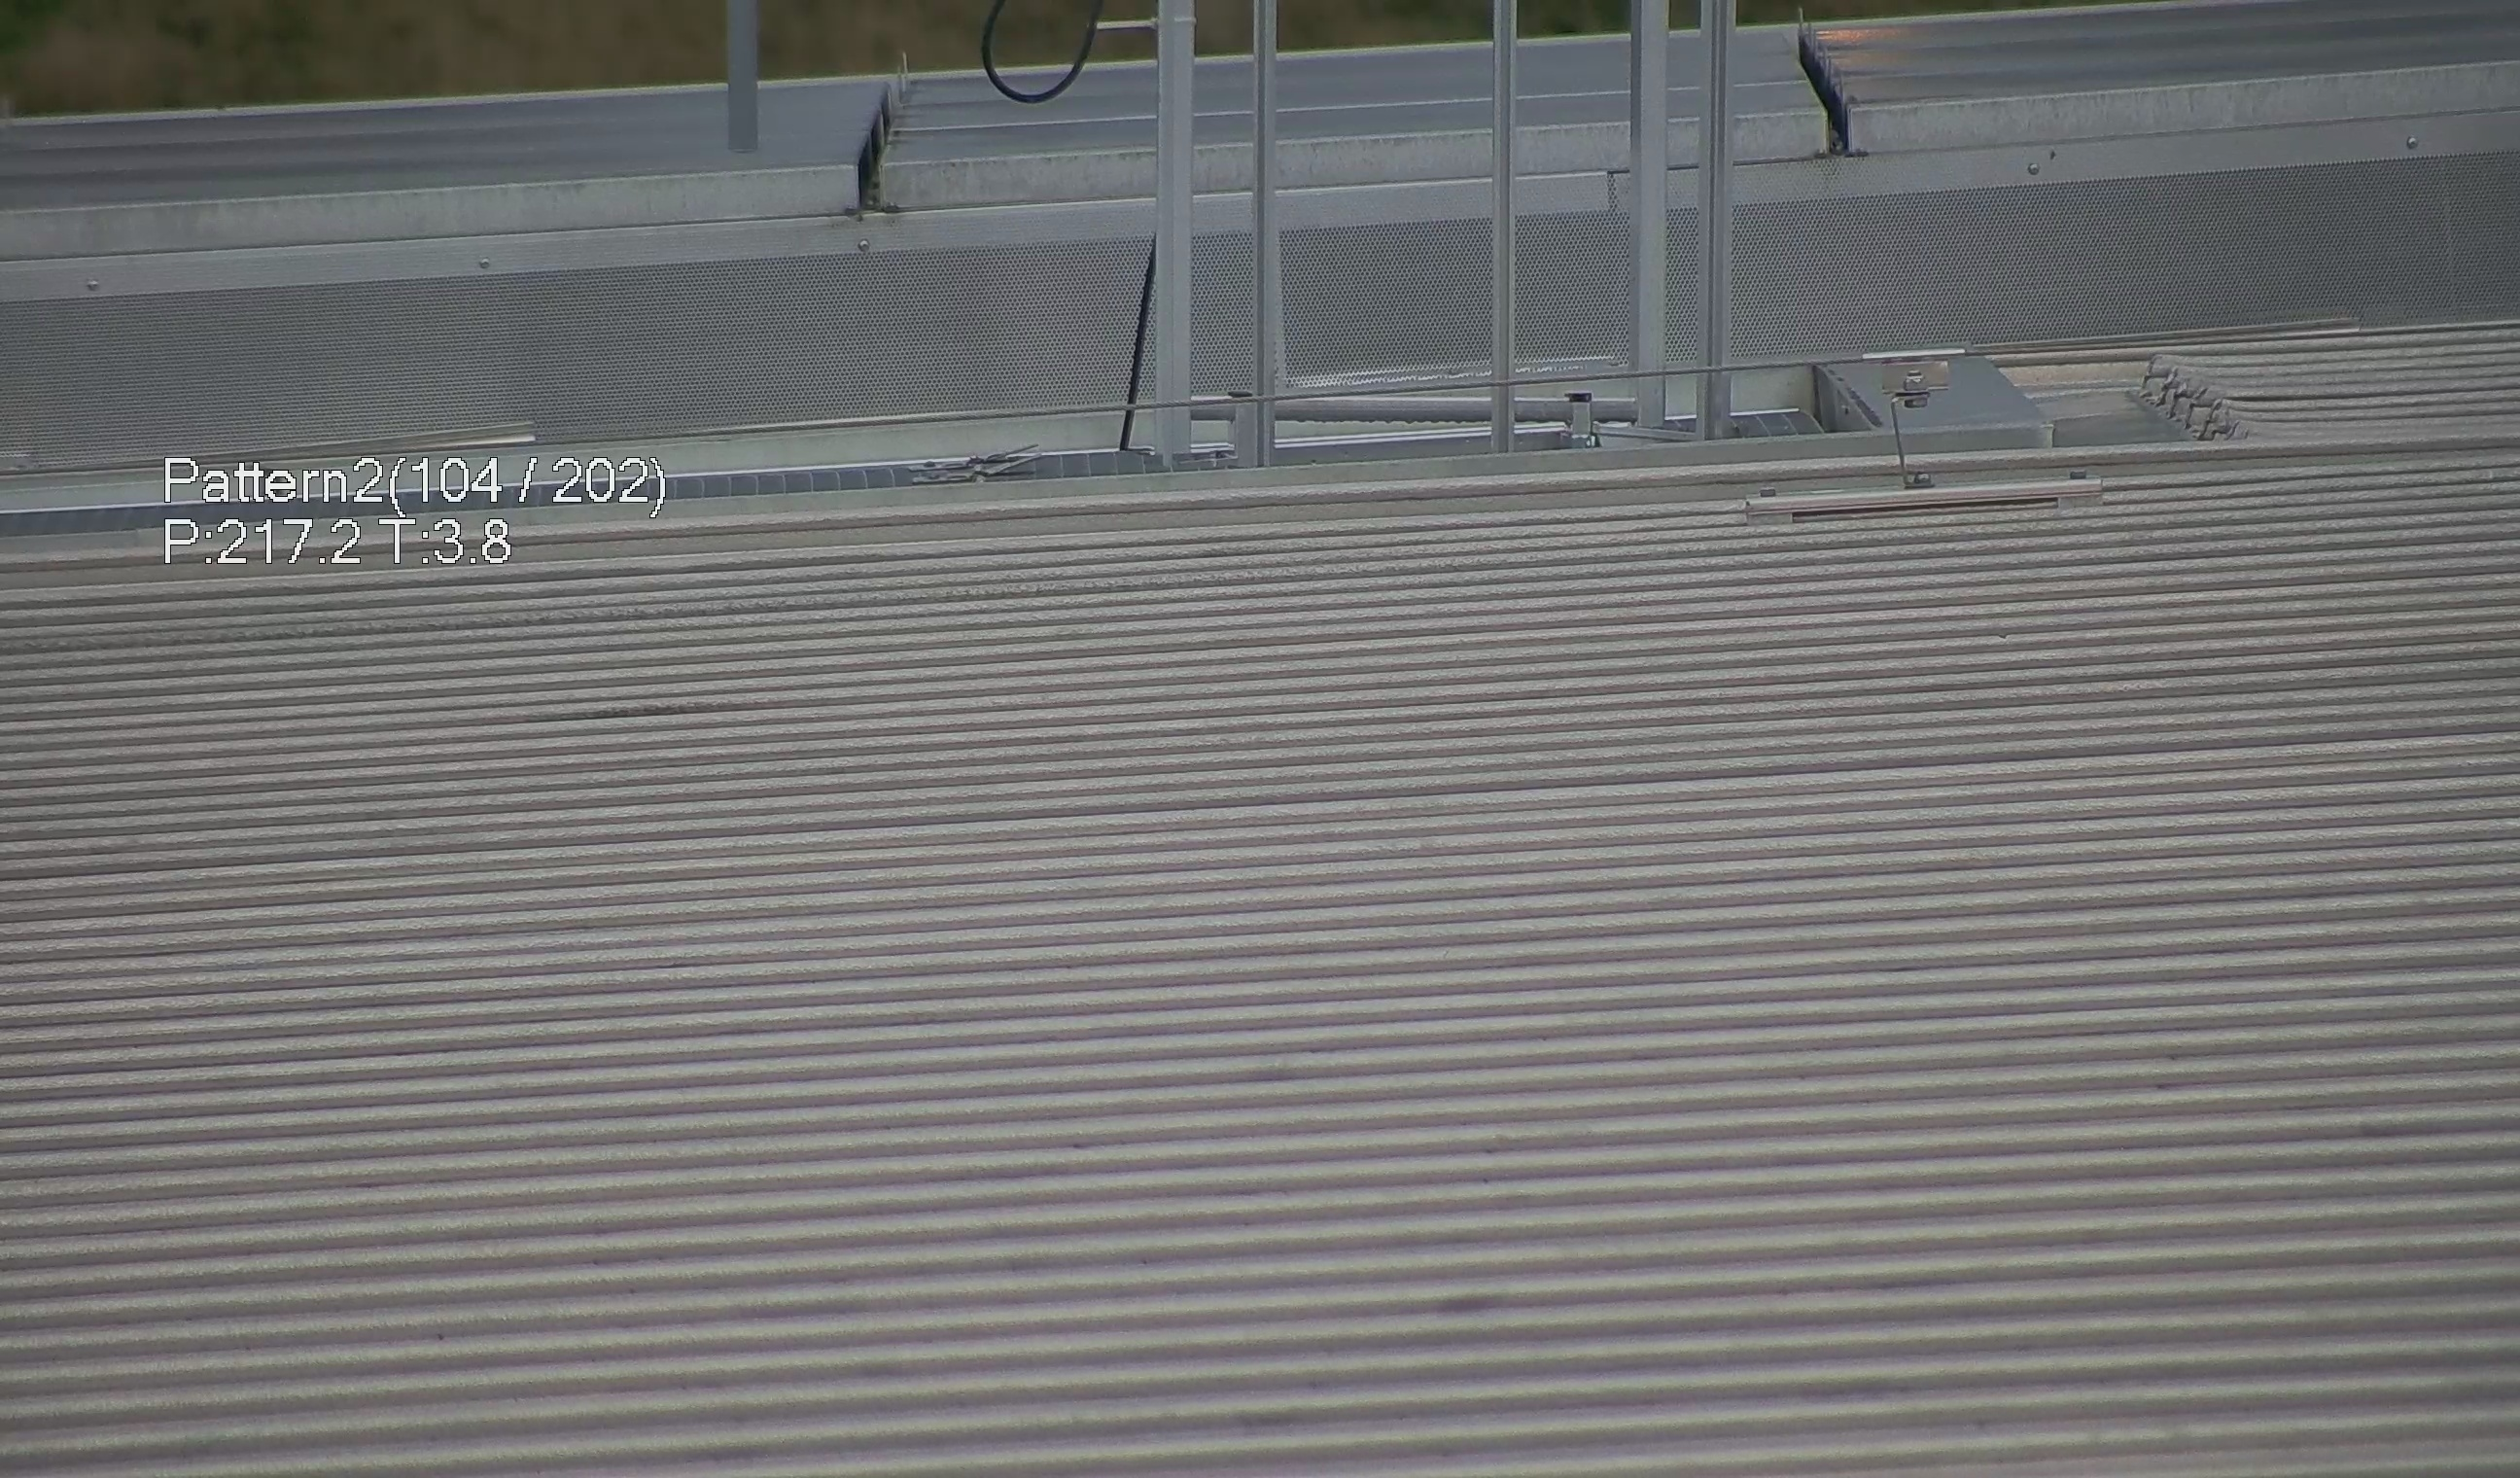Other: (1783, 12, 1883, 162)
